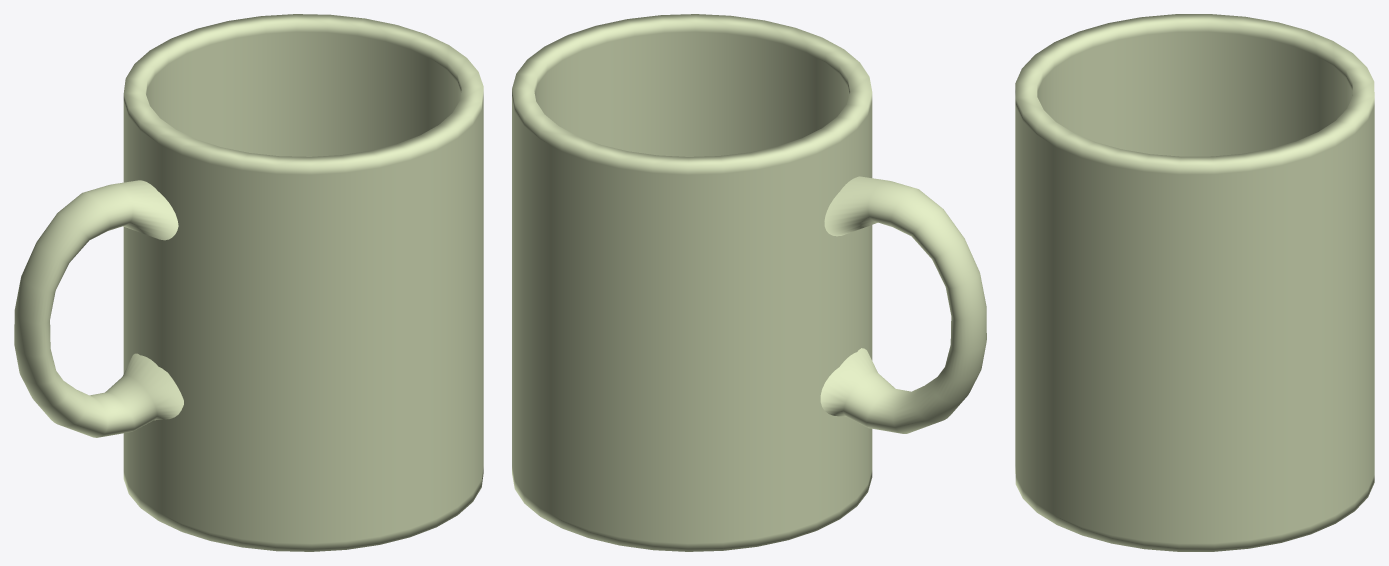
Rendered from mug.dae.
3 views of the same model, side by side, from view 1: azimuth 30°, elevation 25°; view 2: azimuth 150°, elevation 25°; view 3: azimuth 270°, elevation 25° (orthographic).
Parts seen in each view (by area): view 1: Cylinder; view 2: Cylinder; view 3: Cylinder.
Boxes of the visible parts, <box> form: Cylinder: <box>14,14,483,551</box>; Cylinder: <box>512,14,986,551</box>; Cylinder: <box>1015,14,1374,551</box>.
Bounding box in the file's own units: 0.1038 × 0.0728 × 0.0864.
